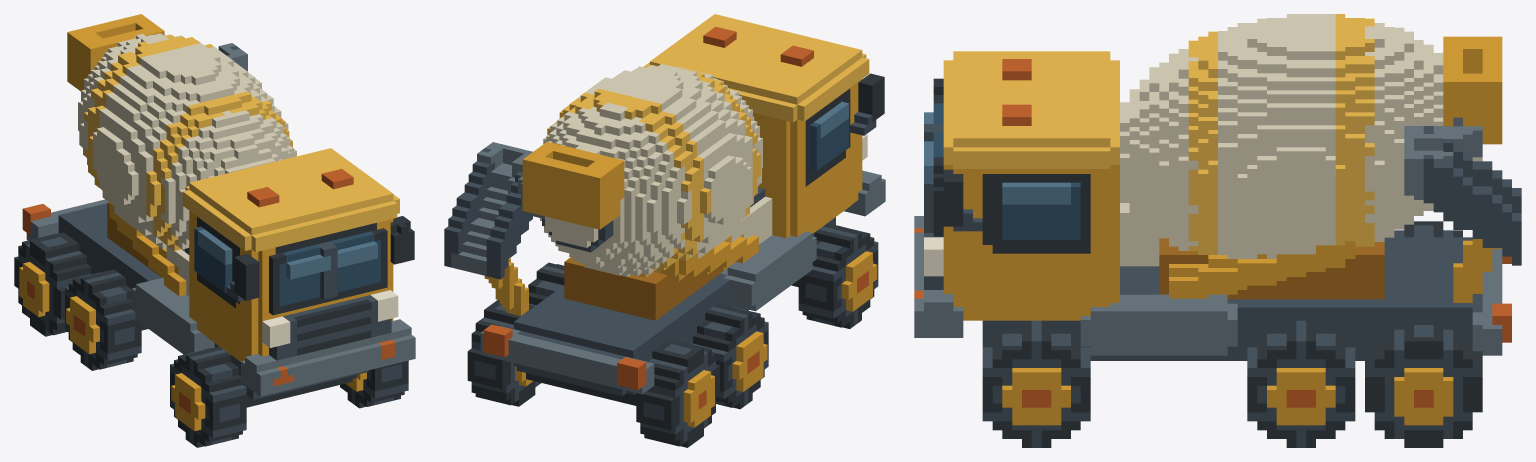
Rendered from concrete_mixer.glb.
The picture shows the model from 3 angles, left to right: view 1: azimuth 30°, elevation 25°; view 2: azimuth 150°, elevation 25°; view 3: azimuth 270°, elevation 25°; orthographic projection. The views are drawn at different scales.
Visible parts, largest first — view 1: concrete_mixer; view 2: concrete_mixer; view 3: concrete_mixer.
Boxes of the visible parts, bbox=[...] form: concrete_mixer: bbox=[14, 14, 415, 447]; concrete_mixer: bbox=[444, 14, 885, 447]; concrete_mixer: bbox=[914, 14, 1521, 447].
Bounding box in the file's own units: 3.41 × 4.4 × 6.82.
